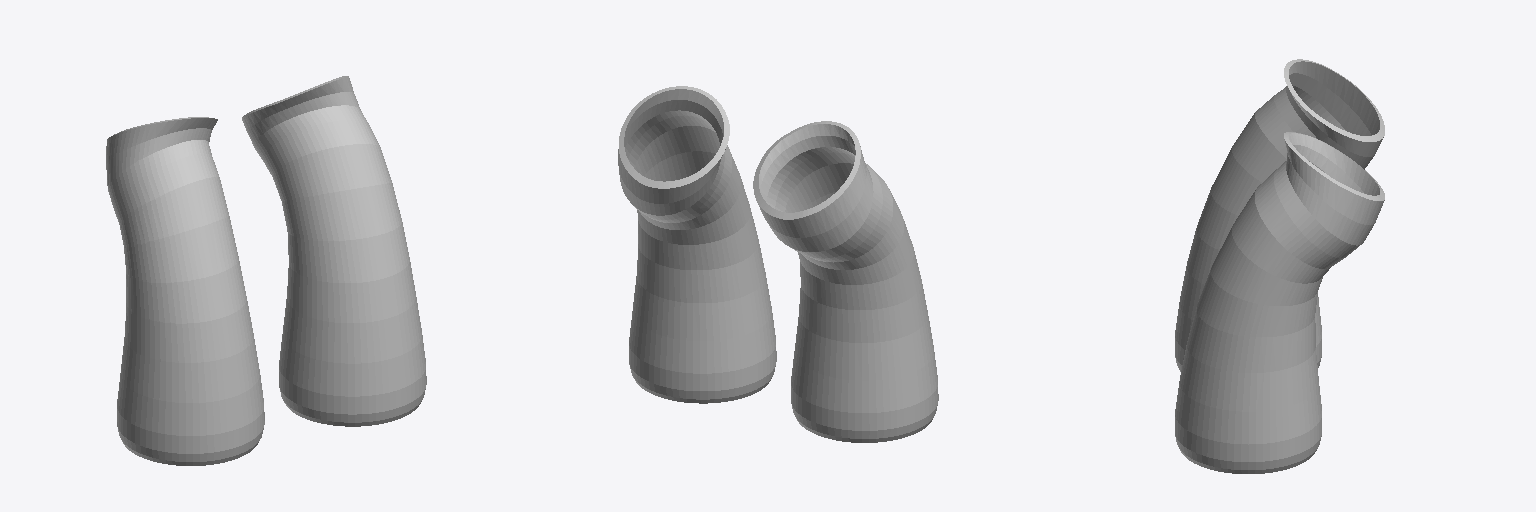
File: B Socks.obj
3 views of the same model, side by side, from view 1: azimuth 30°, elevation 25°; view 2: azimuth 150°, elevation 25°; view 3: azimuth 270°, elevation 25° (orthographic).
Parts seen in each view (by area): view 1: Cylinder.001_Cylinder.002; view 2: Cylinder.001_Cylinder.002; view 3: Cylinder.001_Cylinder.002.
Boxes of the visible parts, x1,y1,x2,y2 form: Cylinder.001_Cylinder.002: [106, 76, 426, 465]; Cylinder.001_Cylinder.002: [618, 86, 938, 442]; Cylinder.001_Cylinder.002: [1175, 59, 1384, 473].
Bounding box in the file's own units: 1.14 × 1.14 × 0.7157.